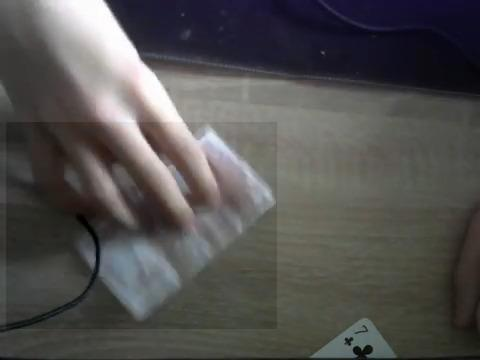5leva: (7, 122, 277, 329)
